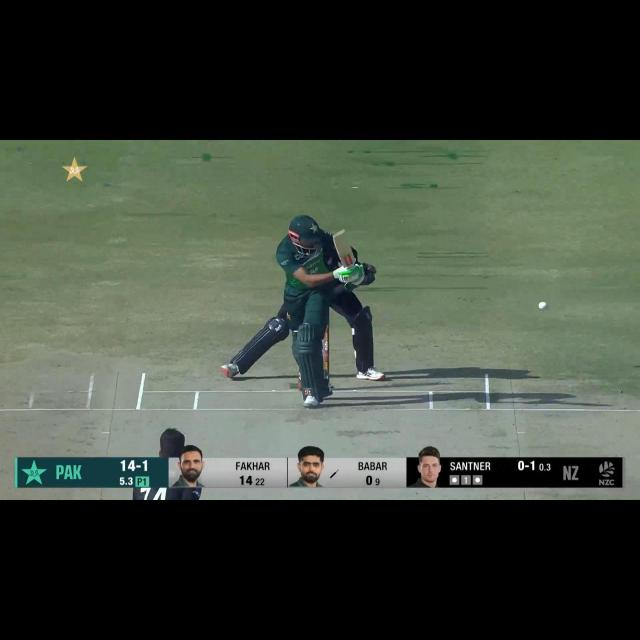bat: (331, 224, 360, 276)
toe: (332, 226, 351, 247)
